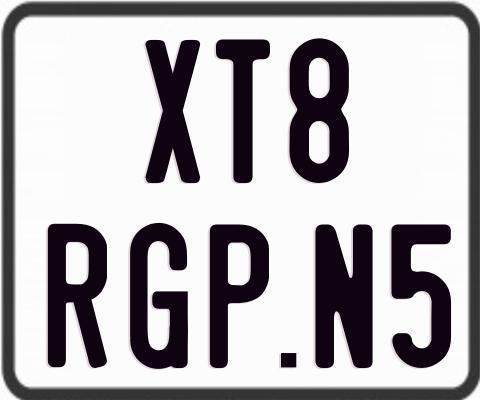5: (390, 221, 456, 371)
8: (287, 36, 352, 184)
G: (127, 220, 185, 372)
N: (315, 224, 378, 371)
P: (210, 224, 269, 372)
R: (46, 224, 109, 368)
T: (215, 36, 272, 185)
X: (142, 37, 202, 181)
